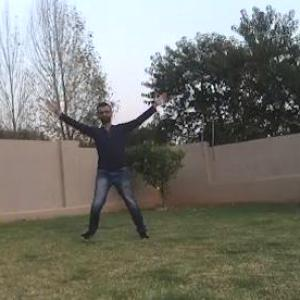takeoff: (64, 85, 184, 243)
